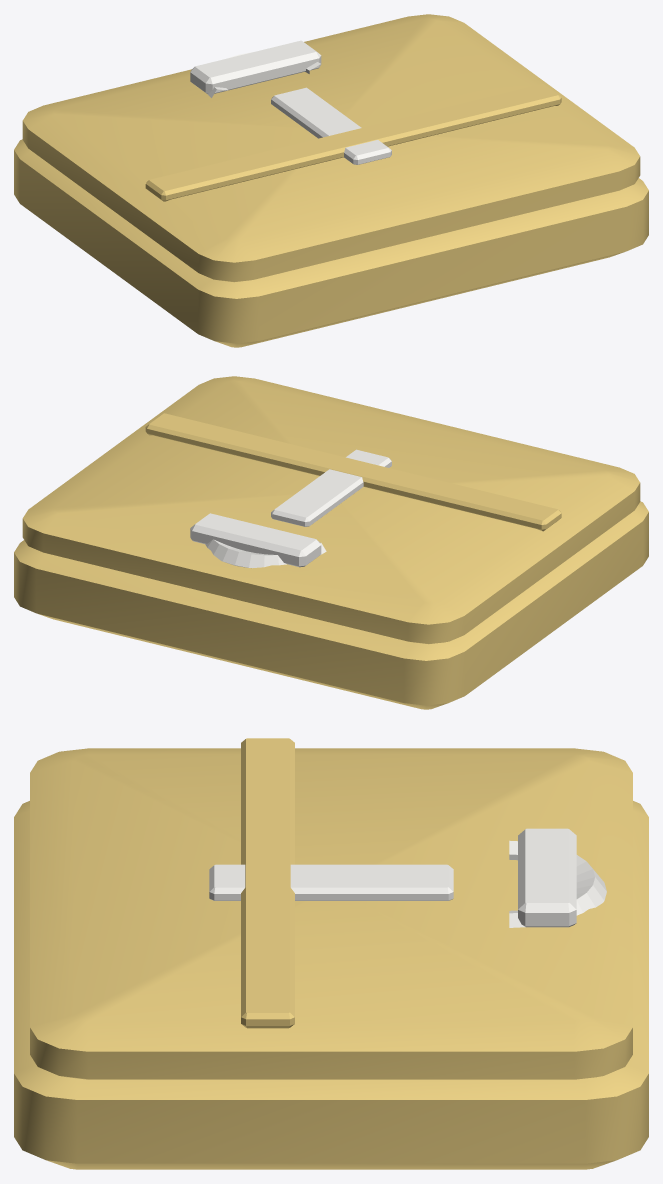
Rendered from clothing-rail-and-wardrobe-polo-shirt-folded-06e26250__35433.glb.
The picture shows the model from 3 angles, top to bottom: view 1: azimuth 30°, elevation 25°; view 2: azimuth 150°, elevation 25°; view 3: azimuth 270°, elevation 25°; orthographic projection. The views are drawn at different scales.
Visible parts, largest first — view 1: polo-shirt-folded; view 2: polo-shirt-folded; view 3: polo-shirt-folded.
Boxes of the visible parts, x1,y1,x2,y2 form: polo-shirt-folded: (14,14,648,347); polo-shirt-folded: (14,376,648,709); polo-shirt-folded: (14,738,648,1169).
Bounding box in the file's own units: 0.3 × 0.0766 × 0.26.
